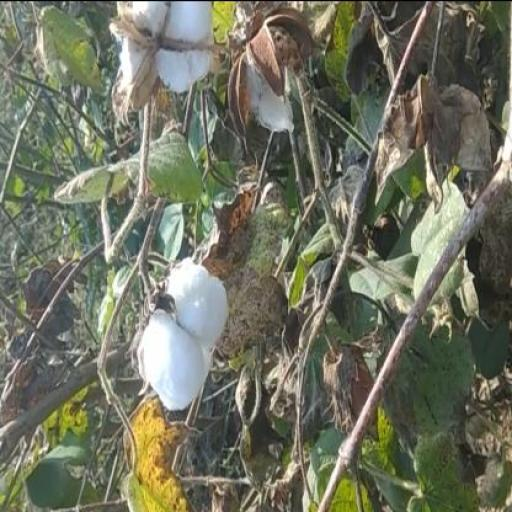cotton_ready: (139, 233, 240, 435), (108, 1, 206, 121)
